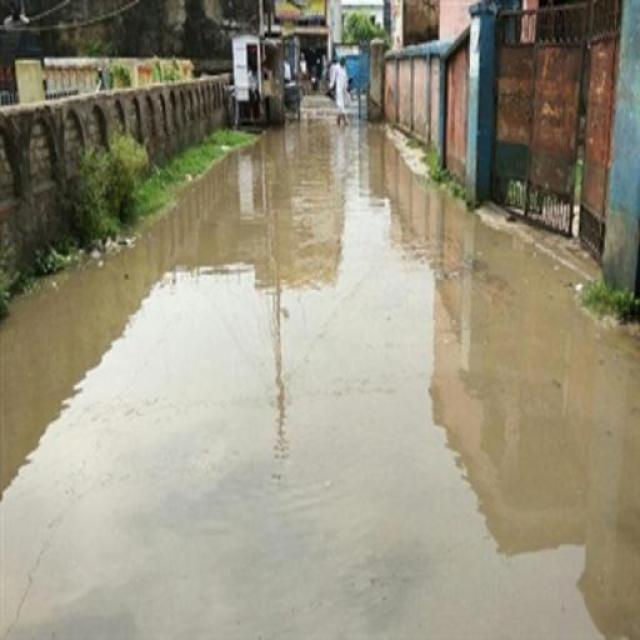puddle: (17, 293, 632, 635), (255, 128, 445, 640), (196, 189, 477, 347)
